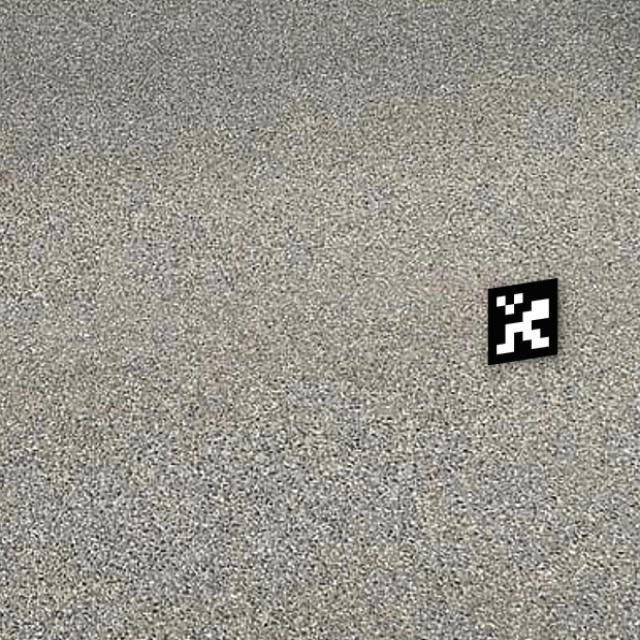marker: (475, 270, 578, 370)
